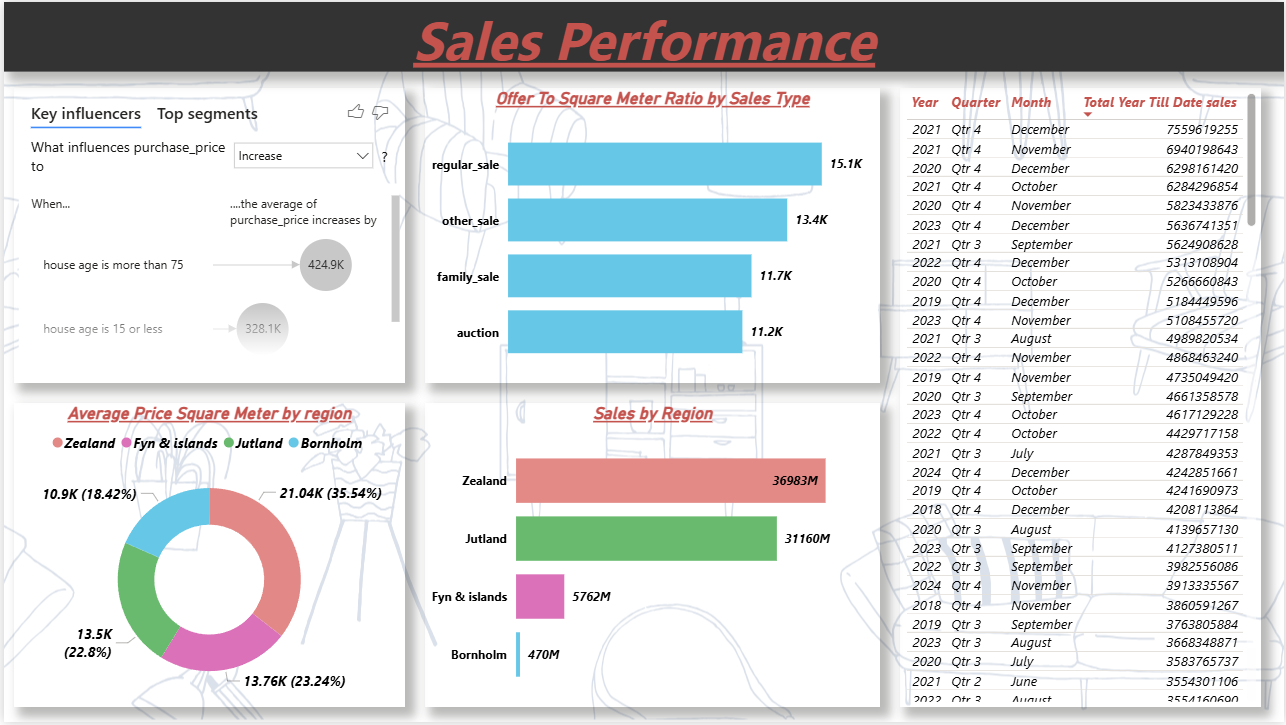

This screenshot's page, from the dashboard's own definition file:
{"tool":"powerbi","page":{"name":"Sales Performance","canvas":[1280,720],"ordinal":1},"visuals":[{"type":"textbox","title":"Sales Performance","box":[0,0,1280.3,70],"z":0},{"type":"barChart","title":"Sales by Region","fields":{"Y":["Measure's Table 2.sales by region"],"Category":["Housing Data.region"]},"box":[430.7,401.7,445.2,305.2],"z":1000},{"type":"tableEx","fields":{"Values":["Housing Data.date.Variation.Date Hierarchy.Year","Housing Data.date.Variation.Date Hierarchy.Quarter","Housing Data.date.Variation.Date Hierarchy.Month","Measure's Table 2.toalytd sales"]},"box":[896.4,85.7,360.7,618.9],"z":2000},{"type":"donutChart","title":"Average Price Square Meter by region","fields":{"Y":["Measure's Table 2.avg price sqm"],"Category":["Housing Data.region"]},"box":[9.7,401.7,390.9,304],"z":3000},{"type":"keyDriversVisual","fields":{"Target":["Housing Data.purchase_price"],"ExplainBy":["Housing Data.house age"]},"box":[9.7,85.7,390.9,294.4],"z":4000},{"type":"barChart","title":"Offer To  Square Meter Ratio by Sales Type","fields":{"Y":["Measure's Table 2.offer to sqm ration"],"Category":["Housing Data.sales_type"]},"box":[421,85.7,454.8,294.4],"z":5000}]}

Visuals, with their boxes in screenshot pixels (x1, y1, x2, y2), scaled from the page's 1280x720 canvas onto the 1286x725 screenshot:
"Sales Performance" textbox: (x1=0, y1=0, x2=1285, y2=70)
"Sales by Region" barChart: (x1=433, y1=404, x2=880, y2=712)
tableEx - Housing Data.date.Variation.Date Hierarchy.Year x Housing Data.date.Variation.Date Hierarchy.Quarter: (x1=901, y1=86, x2=1263, y2=709)
"Average Price Square Meter by region" donutChart: (x1=10, y1=404, x2=402, y2=711)
keyDriversVisual - Housing Data.purchase_price x Housing Data.house age: (x1=10, y1=86, x2=402, y2=383)
"Offer To  Square Meter Ratio by Sales Type" barChart: (x1=423, y1=86, x2=880, y2=383)
